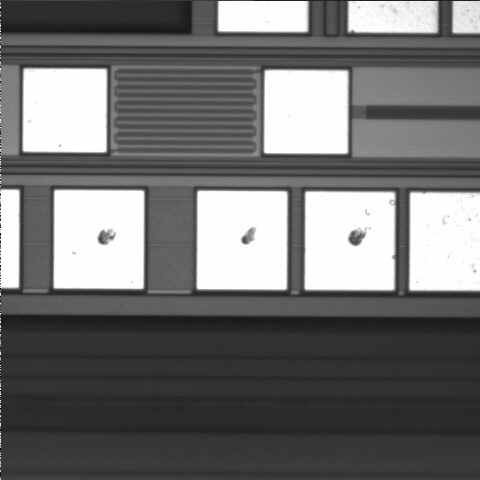pad: (54, 190, 144, 289), (197, 191, 287, 290), (305, 192, 395, 290), (264, 70, 348, 154), (23, 69, 107, 152)
